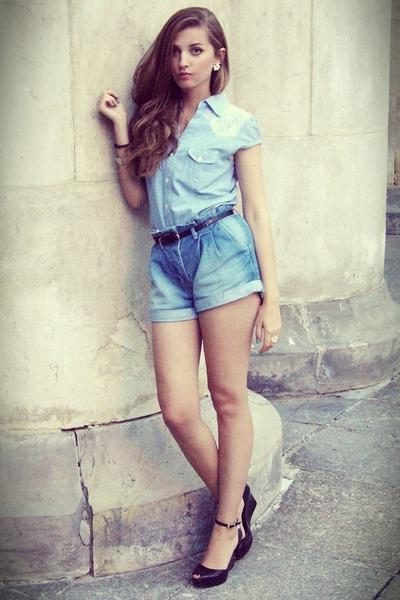Shorts: (137, 210, 263, 322)
short sleeve shirt: (138, 94, 267, 234)
